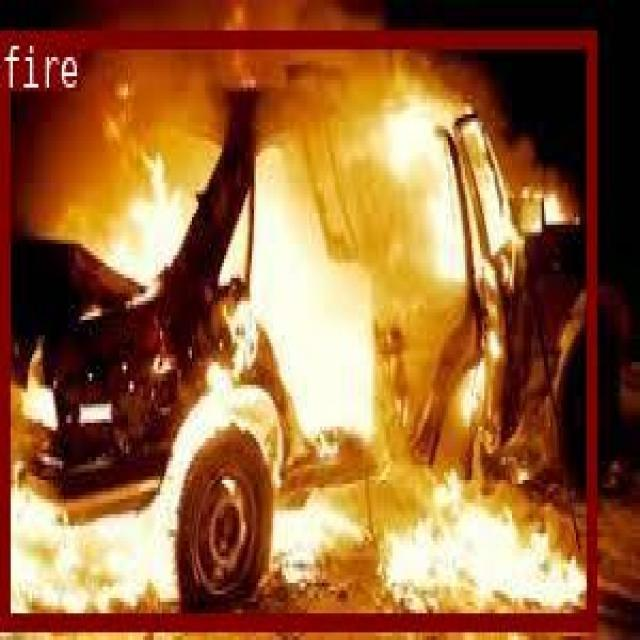fire: (0, 29, 593, 627)
